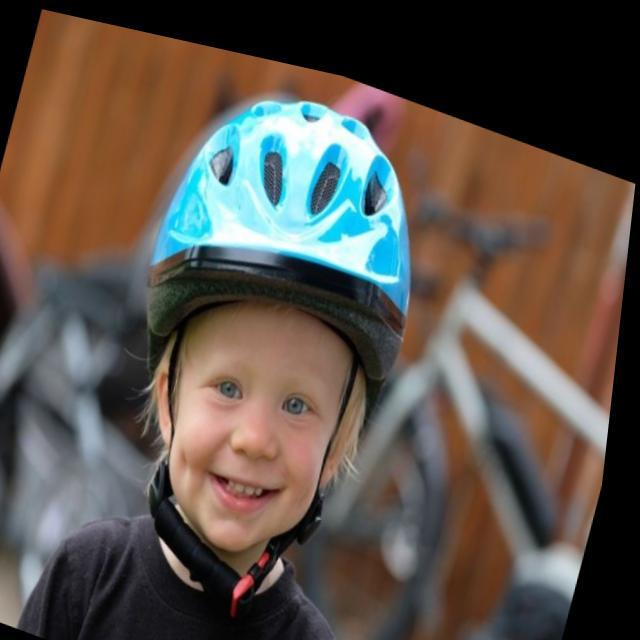Helmet: (130, 95, 417, 555)
